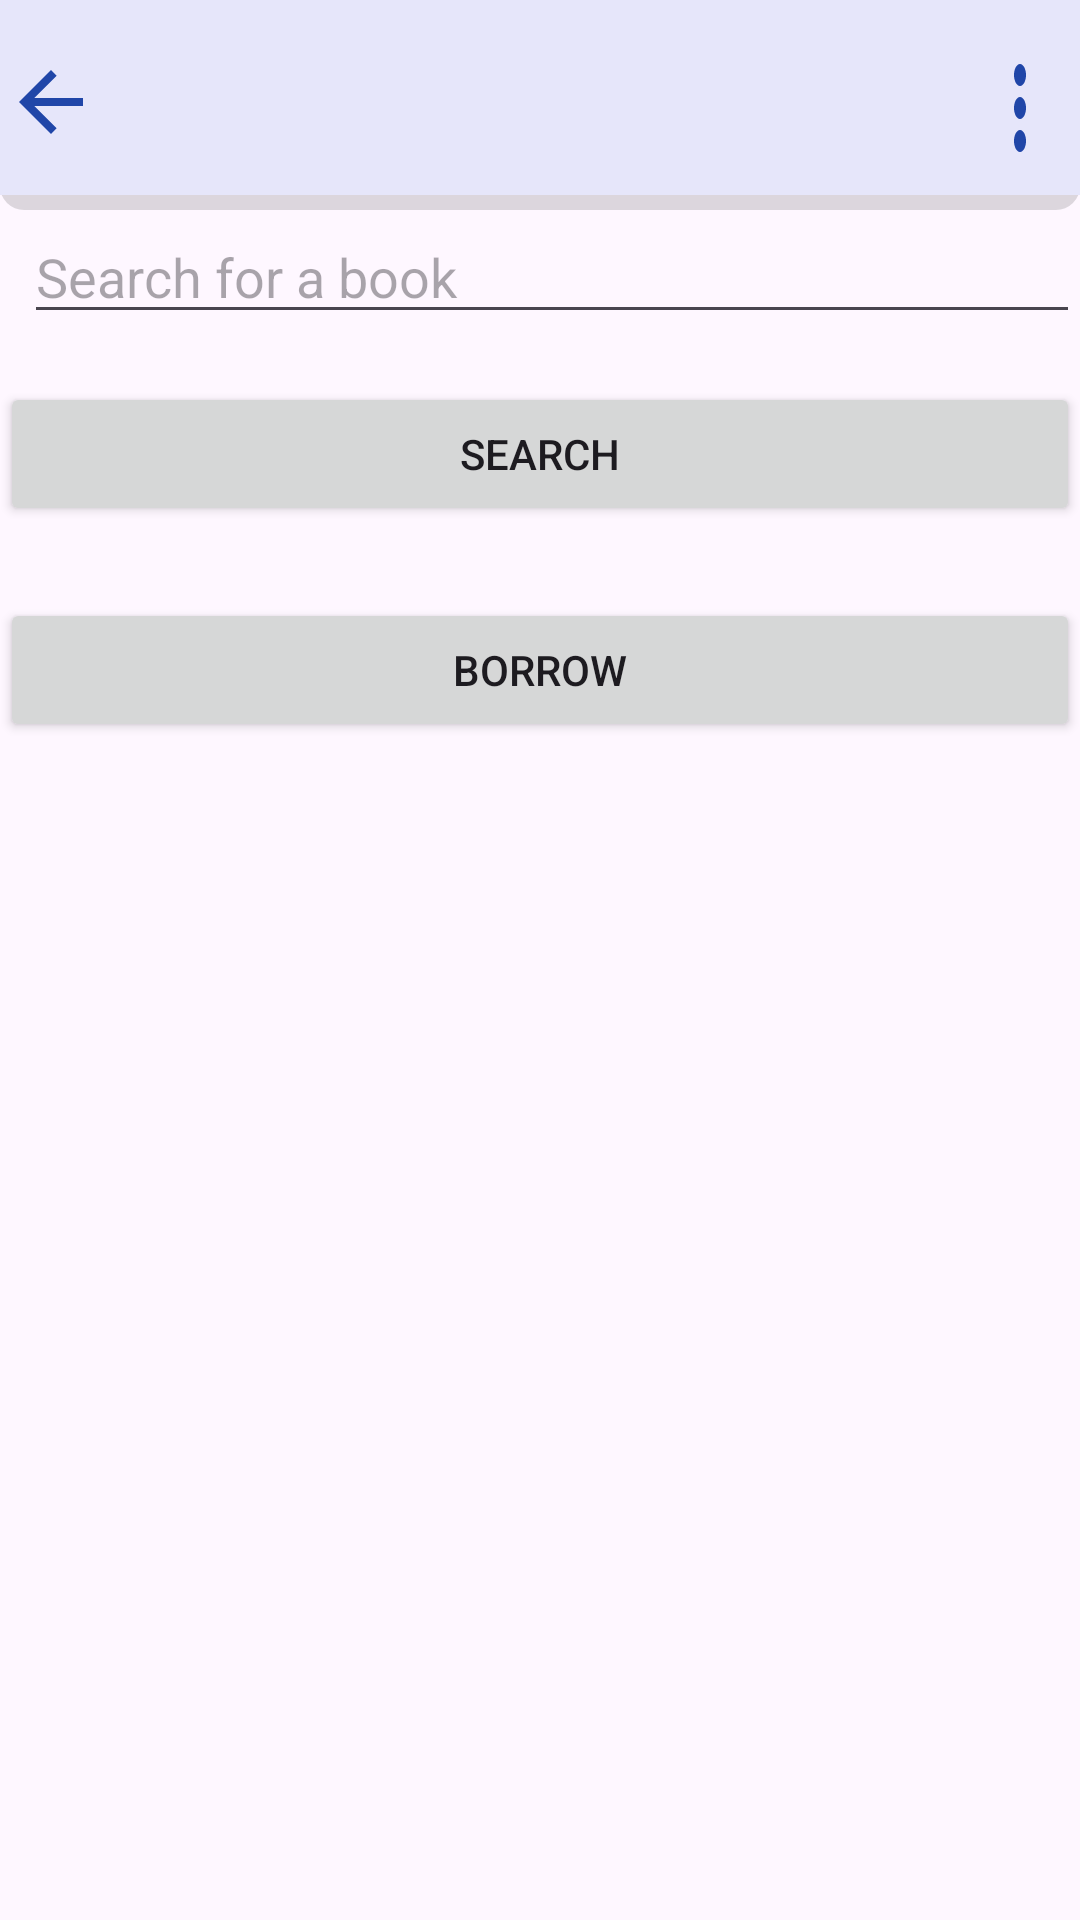

Screen size 1080 x 1920. Icon name, then its center in pixels as [x,y]:
arrow back: [51,102]
